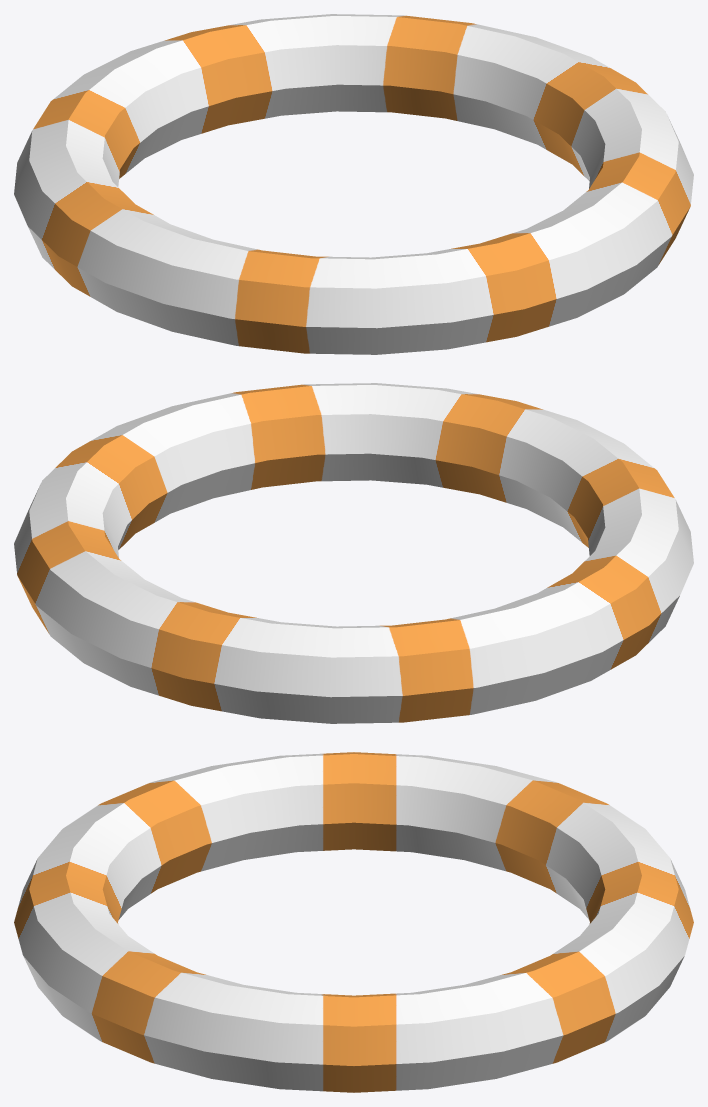
File: Obstacle.fbx
The picture shows the model from 3 angles, top to bottom: view 1: azimuth 30°, elevation 25°; view 2: azimuth 150°, elevation 25°; view 3: azimuth 270°, elevation 25°; orthographic projection.
Parts seen in each view (by area): view 1: Circle001; view 2: Circle001; view 3: Circle001.
Part boxes in pixels (left/top/right/bottom): Circle001: left=14, top=14, right=693, bottom=354; Circle001: left=14, top=383, right=693, bottom=723; Circle001: left=14, top=752, right=693, bottom=1092.
Bounding box in the file's own units: 230 × 35 × 230.
